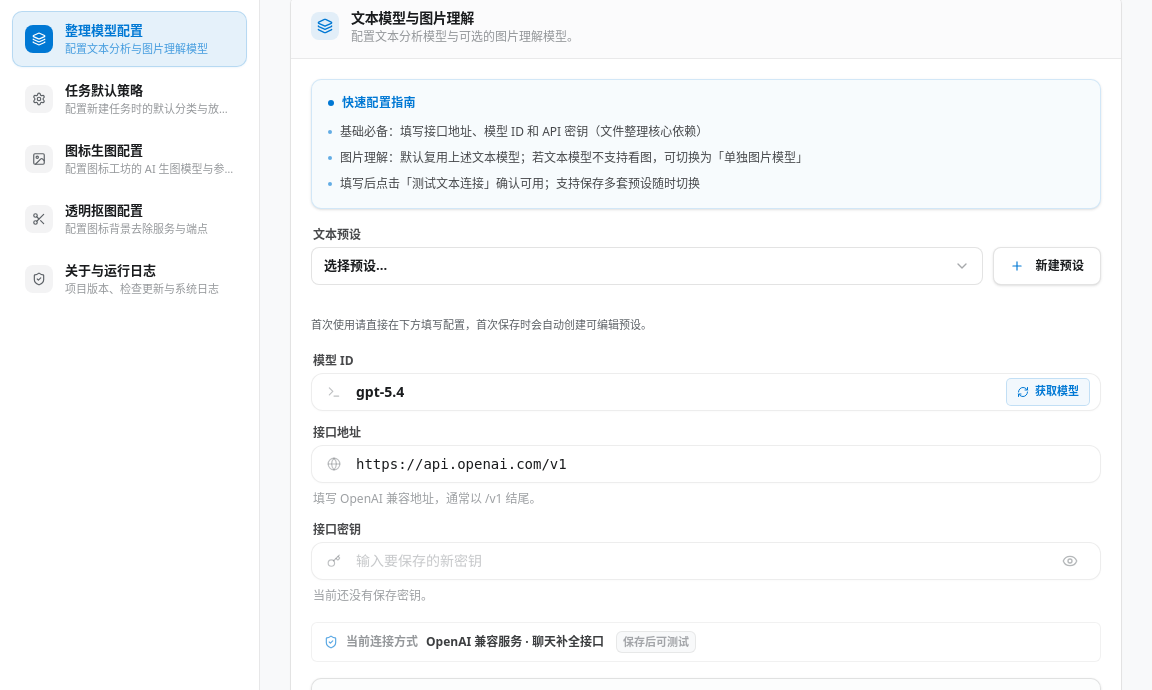
Test: SettingsPage preset flow › shows icon dual-model dependency and advanced options
Click the button "图标生图配置 配置图标工坊的 AI 生图模型与参数" at (130, 158), box [12,130,247,186]
(page scrolled)
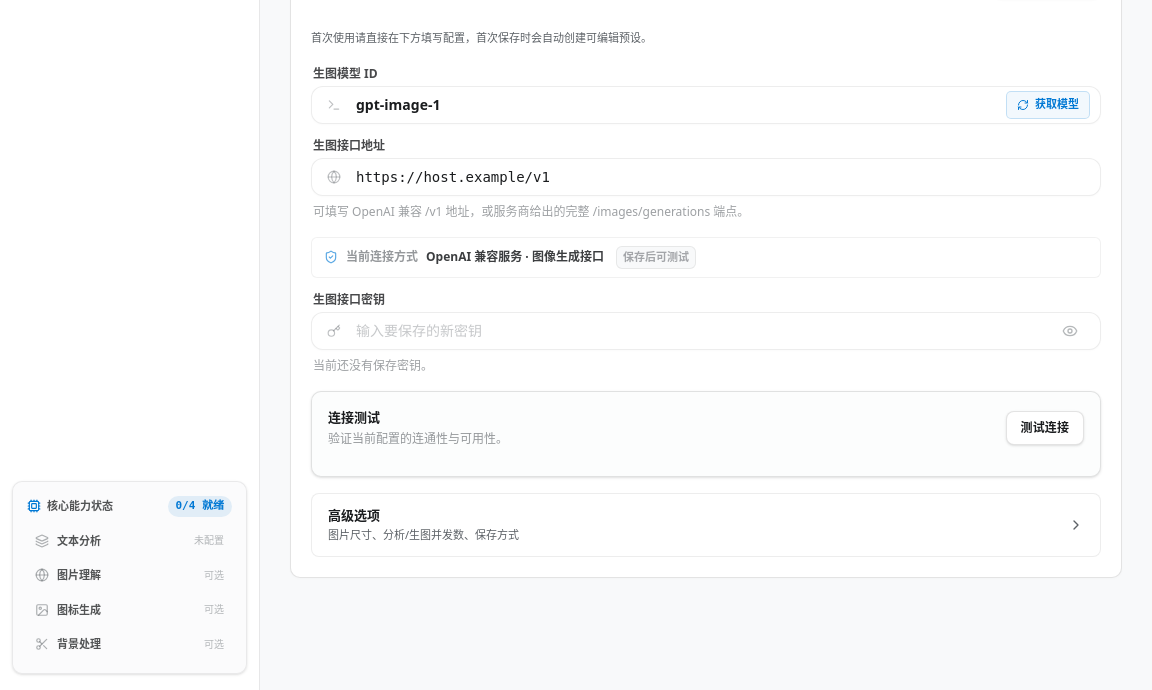
Click the button "高级选项 图片尺寸、分析/生图并发数、保存方式" at (354, 514), box [311,492,1101,556]
(page scrolled)
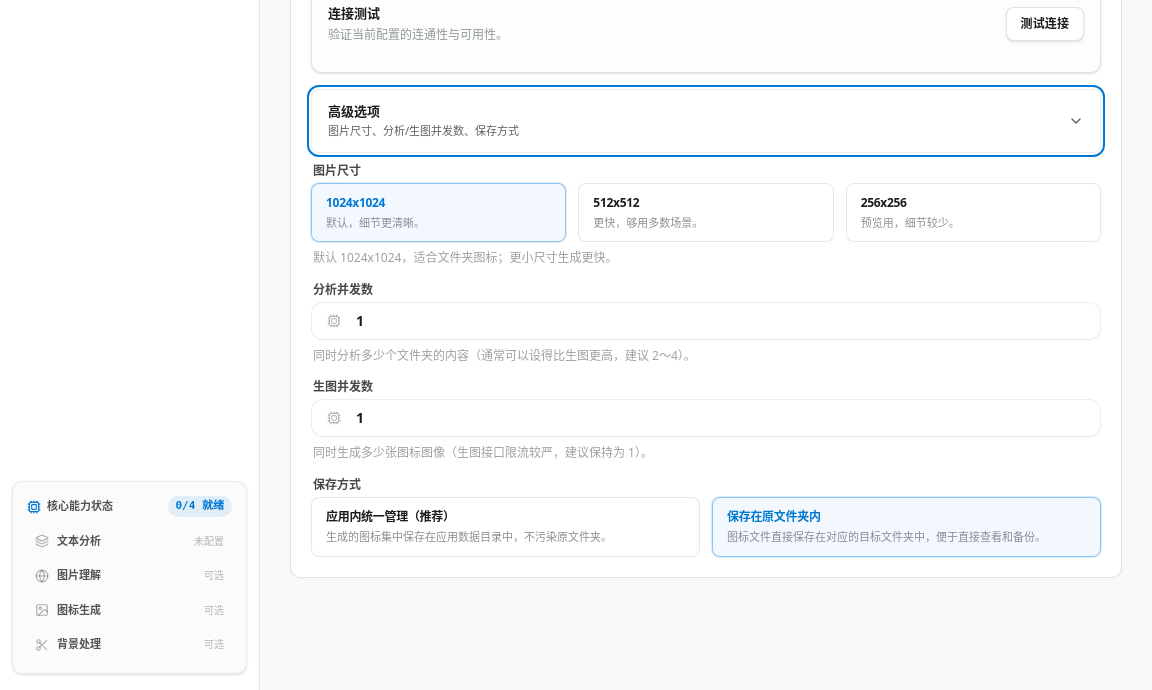
Expected: the text "图片尺寸" is shown, [313,162,361,178]
Expected: the text "默认 1024x1024，适合文件夹图标；更小尺寸生成更快。" is shown, [313,249,617,266]
